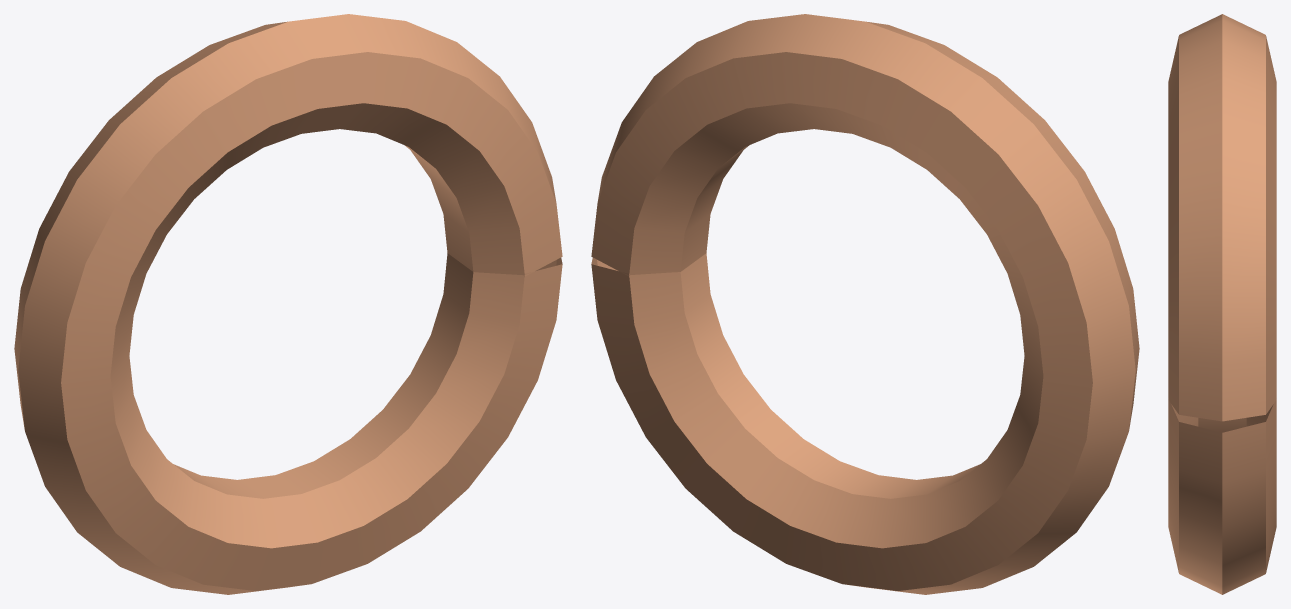
Rendered from copper_ring.glb.
The picture shows the model from 3 angles, left to right: view 1: azimuth 30°, elevation 25°; view 2: azimuth 150°, elevation 25°; view 3: azimuth 270°, elevation 25°; orthographic projection. The views are drawn at different scales.
Parts seen in each view (by area): view 1: copper_ring; view 2: copper_ring; view 3: copper_ring.
Boxes of the visible parts, box(x1,y1,x2,y2) form: copper_ring: box(14, 14, 562, 594); copper_ring: box(591, 14, 1139, 594); copper_ring: box(1168, 14, 1276, 594).
Bounding box in the file's own units: 0.0272 × 0.0272 × 0.00507.
